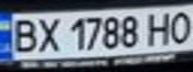1: (63, 15, 87, 51)
7: (81, 13, 103, 51)
8: (118, 12, 142, 50), (103, 14, 124, 50)
B: (6, 16, 42, 54)
H: (142, 9, 175, 46)
O: (166, 8, 193, 44)
X: (33, 15, 63, 53)
